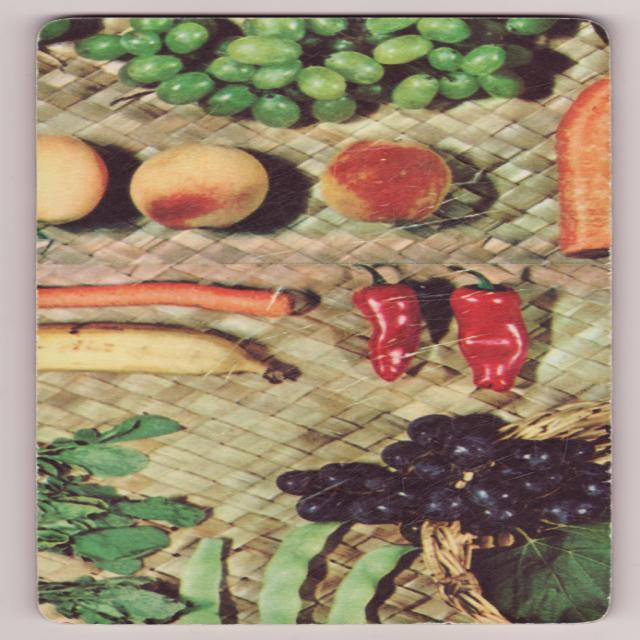Peach: (124, 143, 270, 227), (318, 138, 446, 220), (33, 133, 111, 223)
